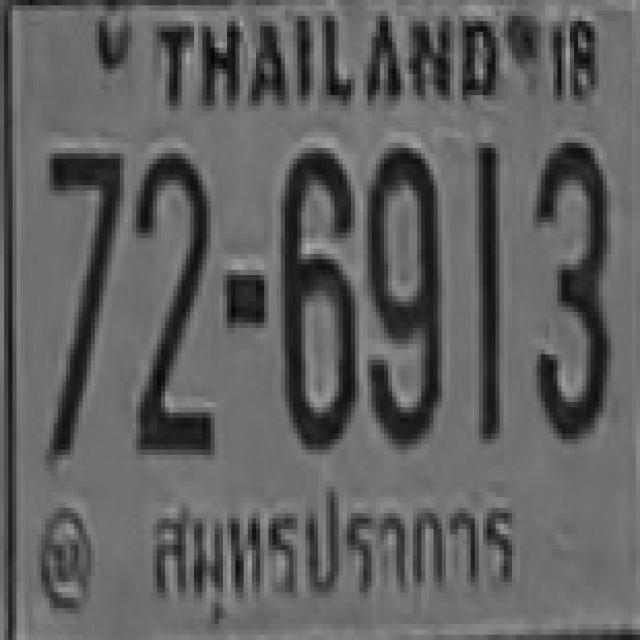0: (363, 143, 438, 328)
2: (132, 148, 207, 402), (134, 209, 209, 447)
3: (531, 138, 609, 434)
6: (277, 143, 355, 444)
7: (45, 148, 120, 354), (45, 150, 120, 330)
9: (363, 161, 438, 442)
SamutPrakan: (142, 478, 524, 627)
